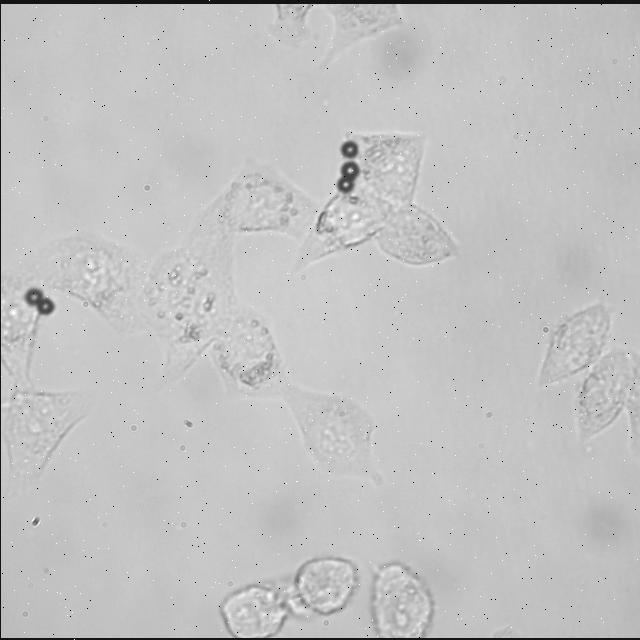microbeads: (338, 138, 358, 158), (337, 160, 359, 178), (23, 286, 44, 304), (36, 296, 54, 316), (336, 174, 354, 193)
